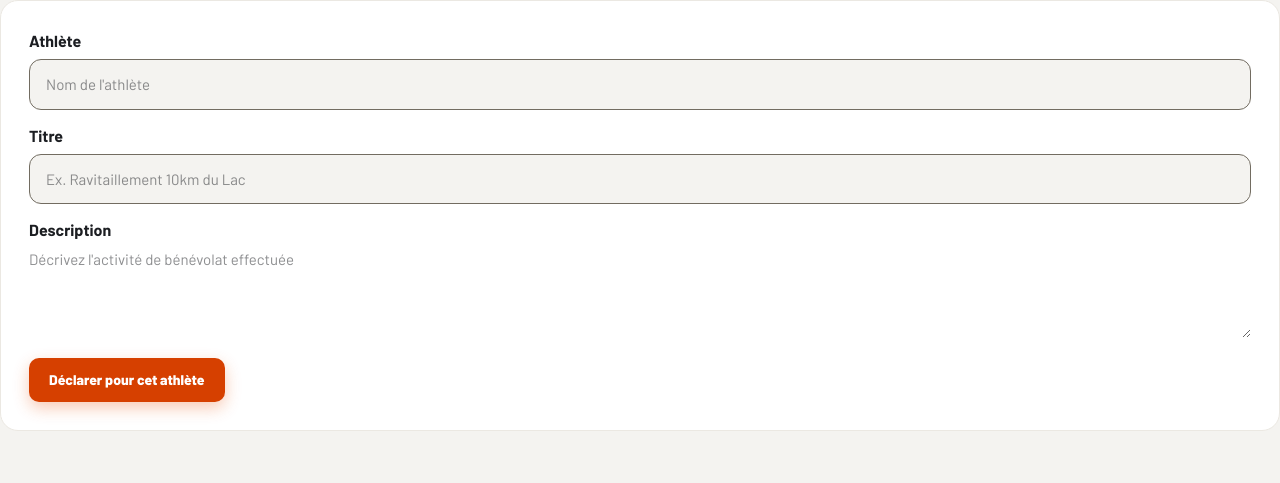
VolunteerActionForm › refuse la soumission sans athlète sélectionné
In the field labelled "Titre": point(640, 179) [46,168,1234,190], type "Ravitaillement"
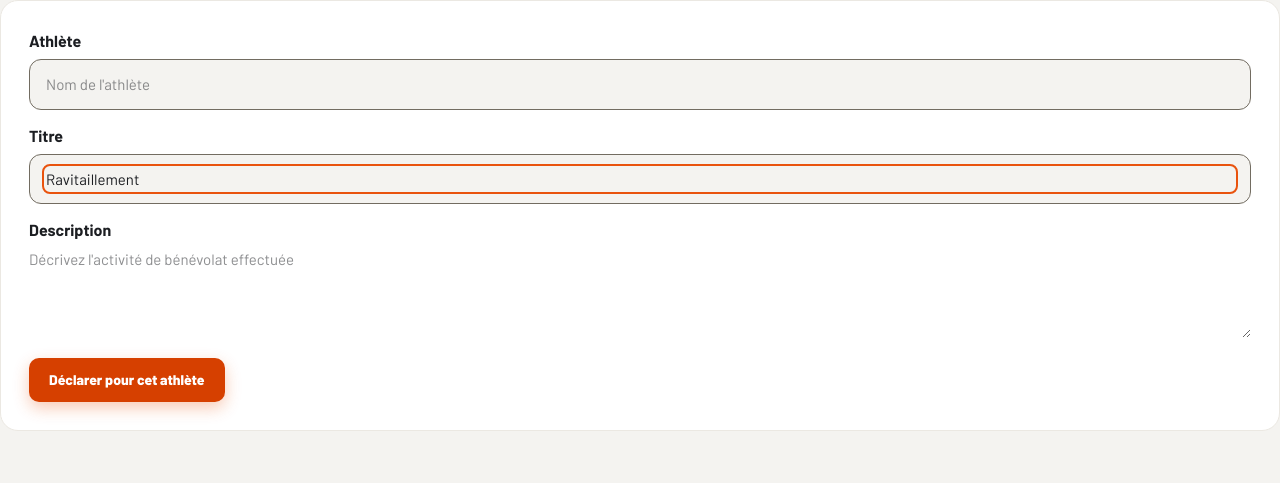
In the text box labelled "Description": point(640, 293) [29,248,1251,338], type "Poste eau"
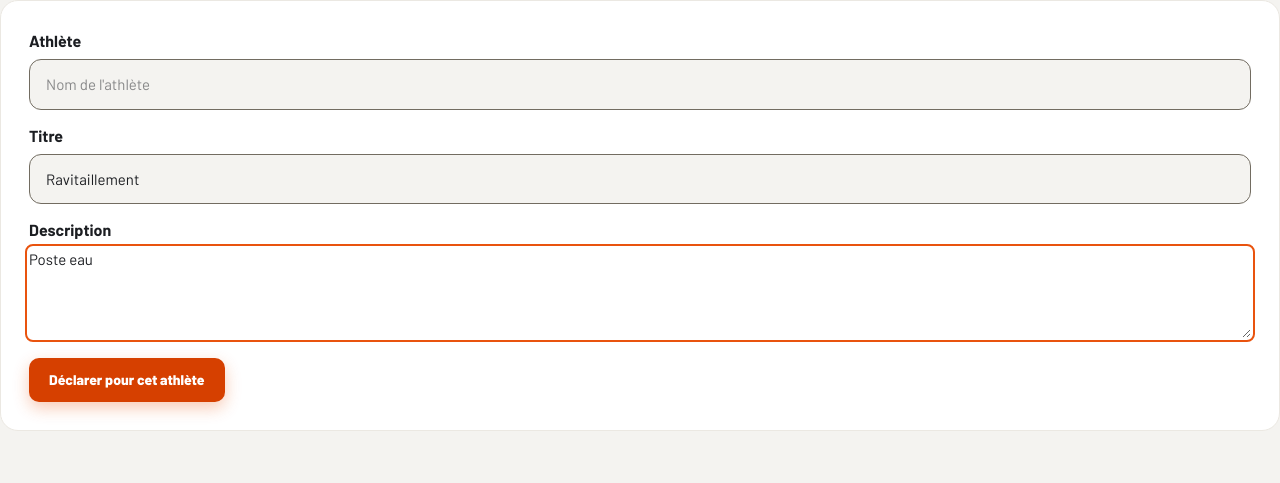
Click the button "Déclarer pour cet athlète": point(127, 380) [29,358,225,402]
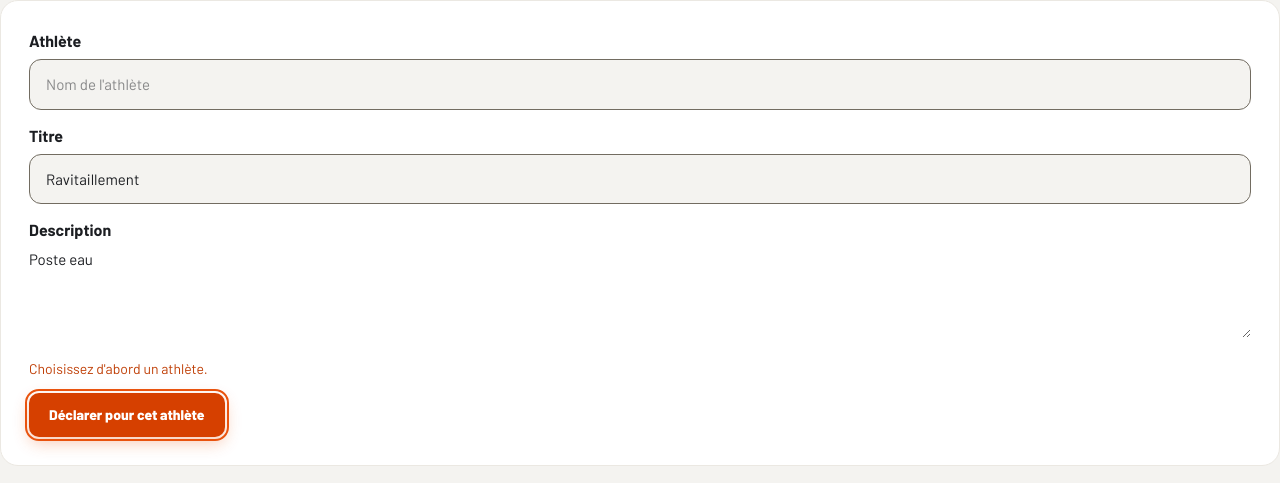
Now the message shows "athlète", box [29,360,208,377]
